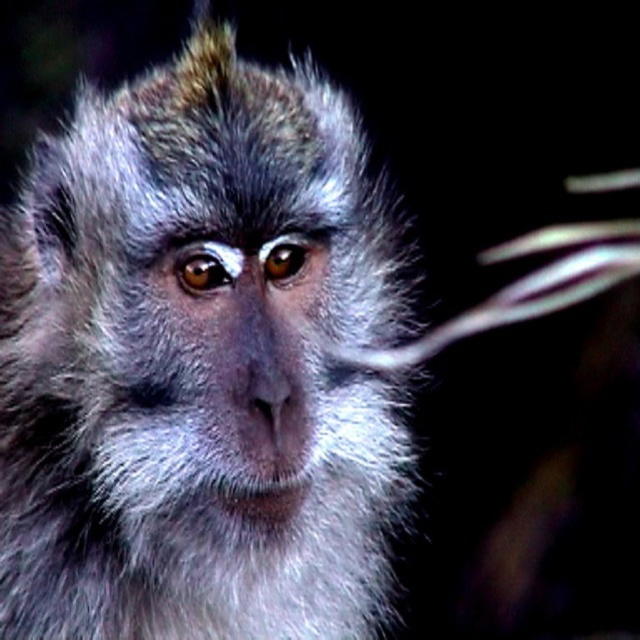Monkey: (0, 25, 456, 629)
